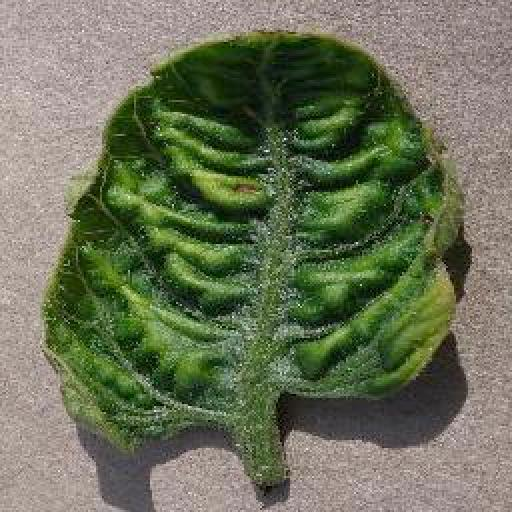disease_tomato: (40, 24, 474, 450)
